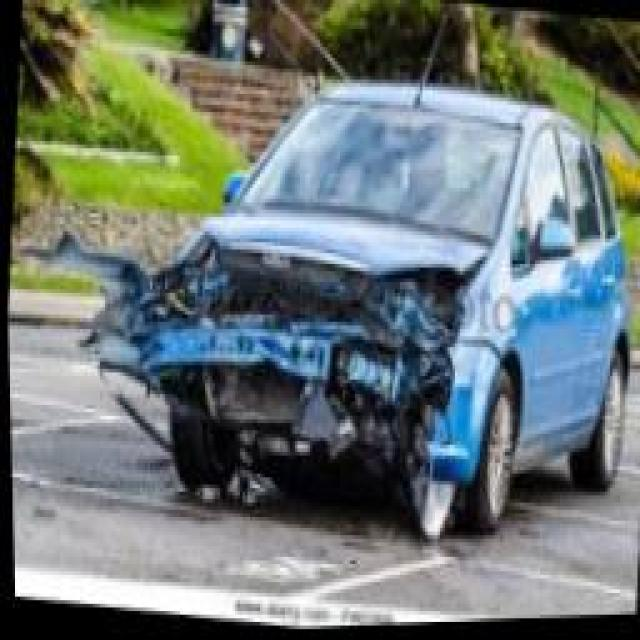Bumper: (86, 280, 470, 484)
Light: (376, 274, 464, 348), (143, 265, 217, 322)
